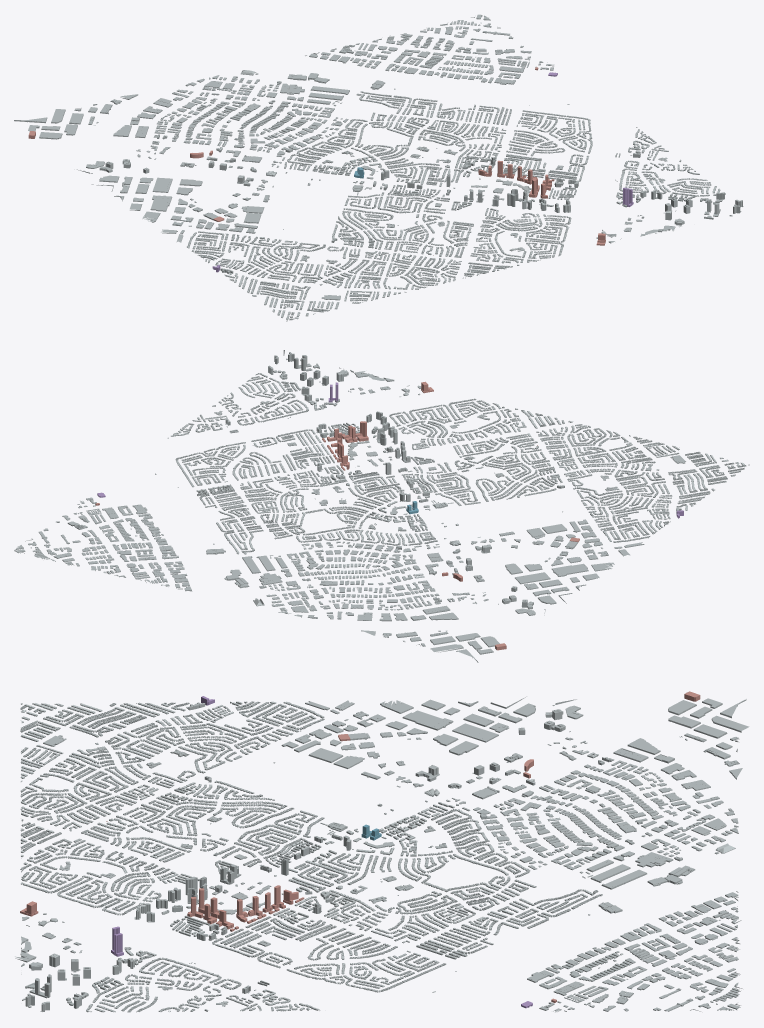
The model's file is uptown.glb.
3 views of the same model, one above another, from view 1: azimuth 30°, elevation 25°; view 2: azimuth 150°, elevation 25°; view 3: azimuth 270°, elevation 25° (orthographic). The views are drawn at different scales.
Parts seen in each view (by area): view 1: existing-33, existing-22, existing-72, existing-63, existing-32, existing-23; view 2: existing-33, existing-22, existing-72, existing-63, existing-32, existing-23; view 3: existing-33, existing-22, existing-72, existing-63, existing-32, existing-23.
Part boxes in pixels (bbox=[...]): existing-33: bbox=[146, 14, 531, 191]; existing-22: bbox=[130, 156, 484, 321]; existing-72: bbox=[493, 104, 743, 219]; existing-63: bbox=[462, 189, 684, 278]; existing-32: bbox=[14, 89, 193, 151]; existing-23: bbox=[77, 154, 140, 201]; existing-33: bbox=[14, 458, 474, 618]; existing-22: bbox=[388, 424, 749, 596]; existing-72: bbox=[155, 350, 377, 487]; existing-63: bbox=[336, 367, 573, 452]; existing-32: bbox=[326, 601, 499, 662]; existing-23: bbox=[483, 584, 585, 615]; existing-33: bbox=[247, 745, 742, 1011]; existing-22: bbox=[20, 699, 559, 886]; existing-72: bbox=[22, 892, 456, 1012]; existing-63: bbox=[15, 819, 228, 974]; existing-32: bbox=[580, 698, 749, 808]; existing-23: bbox=[458, 696, 583, 740].
Bounding box in the file's own units: 4725 × 188 × 4724.
